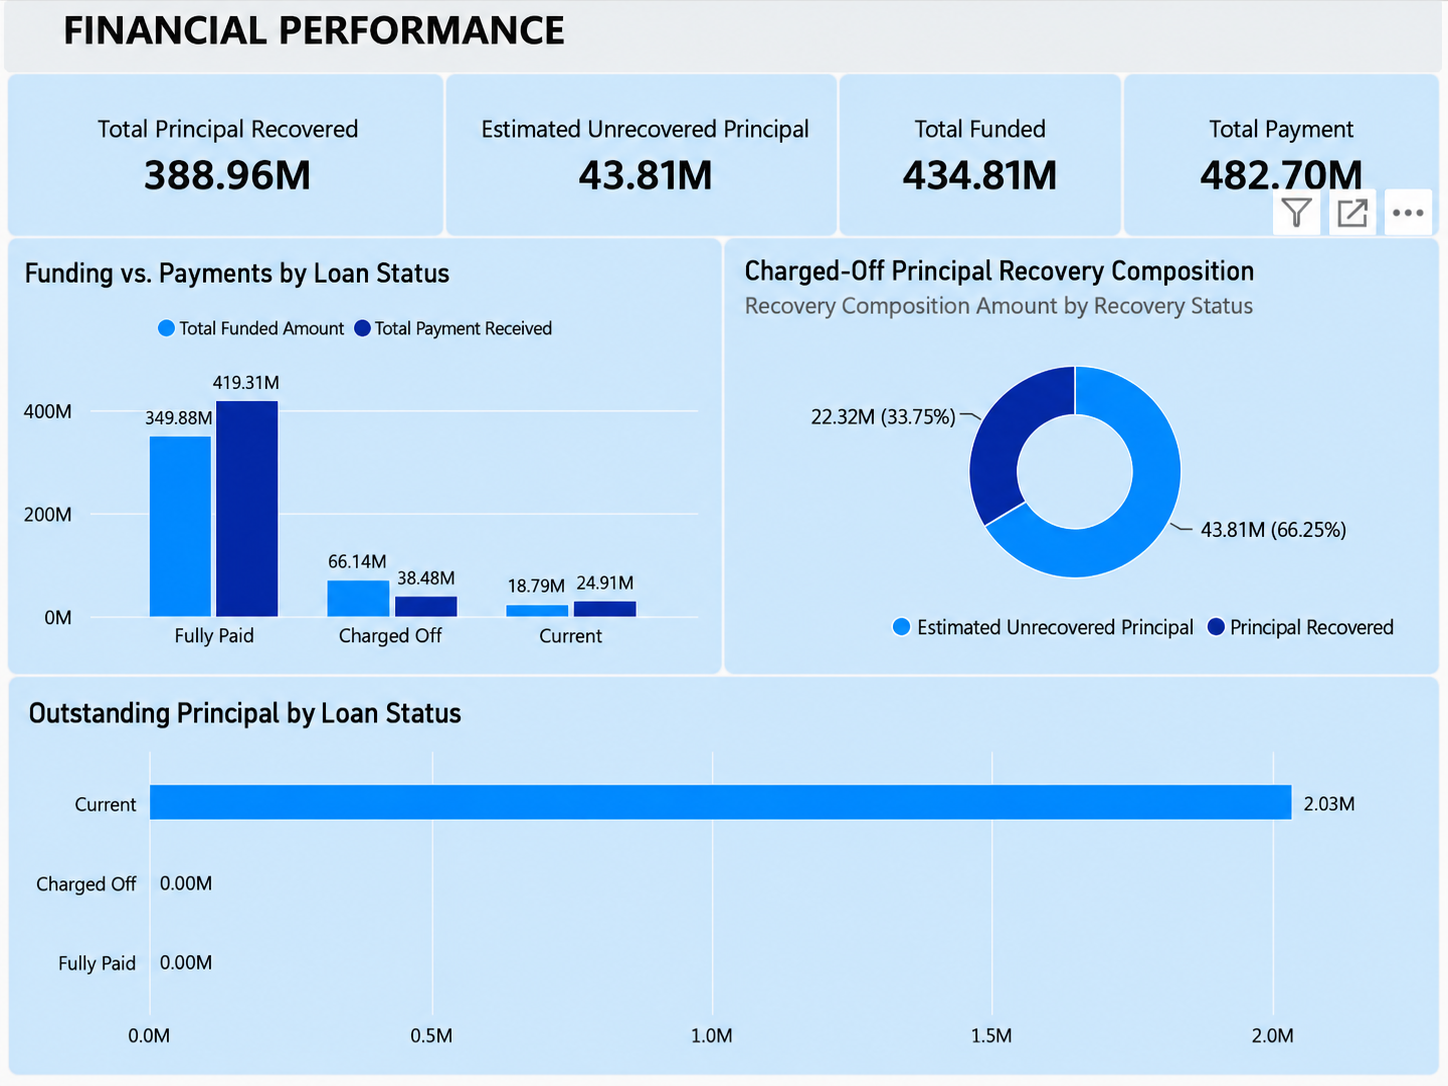

The page's visual inventory and layout, read from the dashboard file:
{"tool":"powerbi","page":{"name":"Financial Performance","canvas":[1920,1080],"ordinal":3},"visuals":[{"type":"textbox","box":[0,0,1000,51.7],"z":0},{"type":"cardVisual","fields":{"Data":["loan.Total Principal Recovered"]},"box":[0,51.7,306.7,116.7],"z":1},{"type":"cardVisual","fields":{"Data":["loan.Estimated Unrecovered Principal"]},"box":[306.7,51.7,276.7,116.7],"z":2},{"type":"cardVisual","fields":{"Data":["loan.Total Funded Amount"]},"box":[583.3,51.7,198.3,116.7],"z":3},{"type":"cardVisual","fields":{"Data":["loan.Total Payment Receivced"]},"box":[781.7,51.7,216.7,116.7],"z":4},{"type":"clusteredColumnChart","title":"Funding vs. Payments by Loan Status","fields":{"Category":["loan.loan_status"],"Y":["loan.Total Funded Amount","loan.Total Payment Receivced"]},"box":[0,168.8,500,307.5],"z":5},{"type":"donutChart","title":"Charged-Off Principal Recovery Composition","fields":{"Category":["Recovery Categories.Recovery Status"],"Y":["Recovery Categories.Recovery Composition Amount"]},"box":[500,167.5,497.5,307.5],"z":6},{"type":"clusteredBarChart","title":"Outstanding Principal by Loan Status","fields":{"Category":["loan.loan_status"],"Y":["Recovery Categories.Total Outstanding Principal"]},"box":[0,476.2,997.5,295],"z":7}]}

Visuals, with their boxes on the page's 1920x1080 design canvas (x1, y1, x2, y2). These are canvas units, not pixel positions in the 1448x1086 screenshot, which may show the page scaled, cropped or inside an application window:
textbox: crop(0, 0, 1000, 52)
cardVisual - loan.Total Principal Recovered: crop(0, 52, 307, 168)
cardVisual - loan.Estimated Unrecovered Principal: crop(307, 52, 583, 168)
cardVisual - loan.Total Funded Amount: crop(583, 52, 782, 168)
cardVisual - loan.Total Payment Receivced: crop(782, 52, 998, 168)
"Funding vs. Payments by Loan Status" clusteredColumnChart: crop(0, 169, 500, 476)
"Charged-Off Principal Recovery Composition" donutChart: crop(500, 168, 998, 475)
"Outstanding Principal by Loan Status" clusteredBarChart: crop(0, 476, 998, 771)
